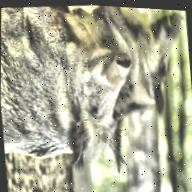boar: (0, 0, 153, 190)
